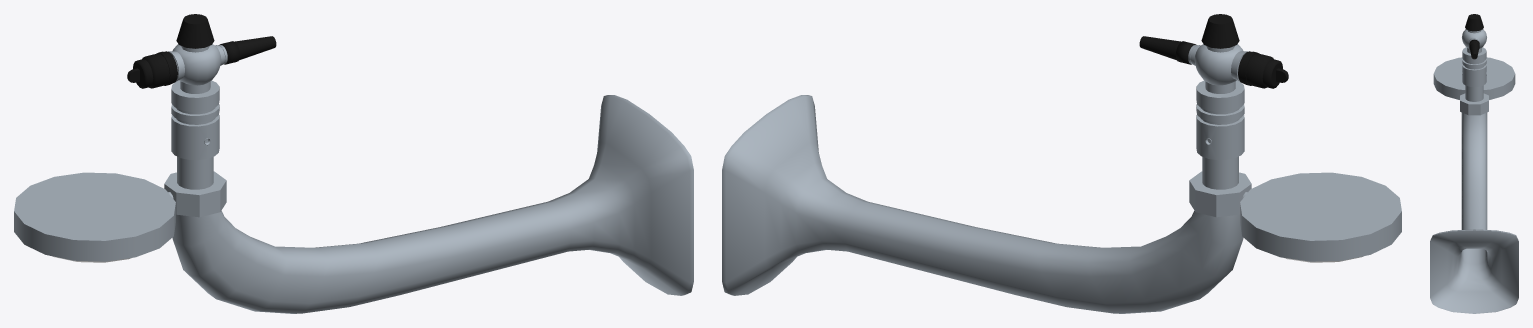
File: BeerTapLink0.dae
3 views of the same model, side by side, from view 1: azimuth 30°, elevation 25°; view 2: azimuth 150°, elevation 25°; view 3: azimuth 270°, elevation 25° (orthographic). The views are drawn at different scales.
Visible parts, largest first — view 1: BeerTapLink0; view 2: BeerTapLink0; view 3: BeerTapLink0.
Part boxes in pixels (bbox=[...]): BeerTapLink0: bbox=[14, 14, 693, 313]; BeerTapLink0: bbox=[722, 14, 1401, 313]; BeerTapLink0: bbox=[1430, 14, 1518, 313].
Size of the model in its own units: 0.4772 by 0.2717 by 0.1174.
2 materials, 1 textured.
